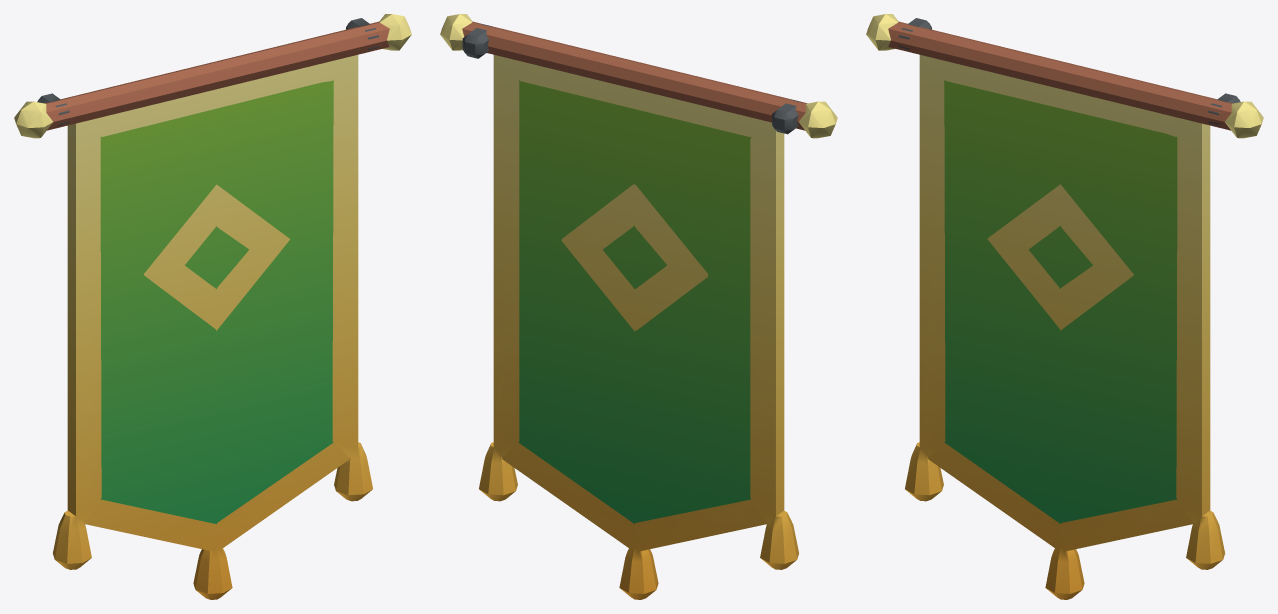
The model's file is tapestry_green.glb.
3 views of the same model, side by side, from view 1: azimuth 30°, elevation 25°; view 2: azimuth 150°, elevation 25°; view 3: azimuth 330°, elevation 25° (orthographic).
Visible parts, largest first — view 1: tapestry_green; view 2: tapestry_green; view 3: tapestry_green.
Boxes of the visible parts, bbox=[...] form: tapestry_green: bbox=[14, 14, 411, 599]; tapestry_green: bbox=[440, 14, 837, 599]; tapestry_green: bbox=[866, 14, 1263, 599].
Size of the model in its own units: 2.24 by 2.93 by 0.24.
Materials: 1 (1 with a texture image).
